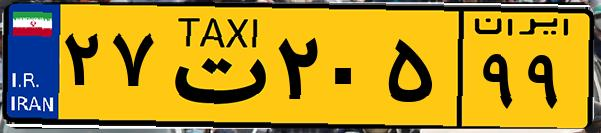0: (330, 28, 385, 110)
2: (270, 28, 330, 110), (57, 26, 110, 100)
5: (385, 28, 445, 110)
7: (110, 28, 158, 98)
9: (475, 38, 525, 113), (525, 38, 570, 115)
ت: (158, 12, 270, 120)
